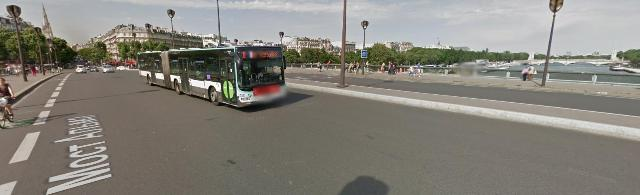bus: (136, 44, 291, 111)
car: (102, 64, 114, 74), (76, 66, 88, 74), (89, 66, 99, 73), (116, 66, 127, 71)
